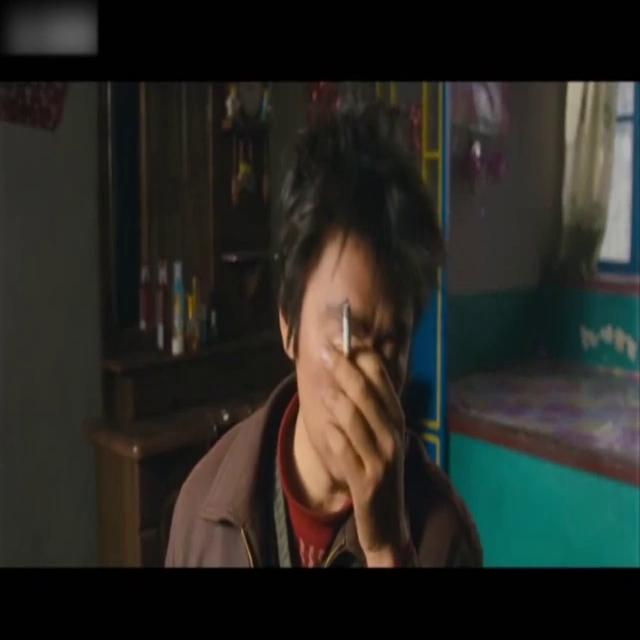smoking: (342, 296, 351, 364)
